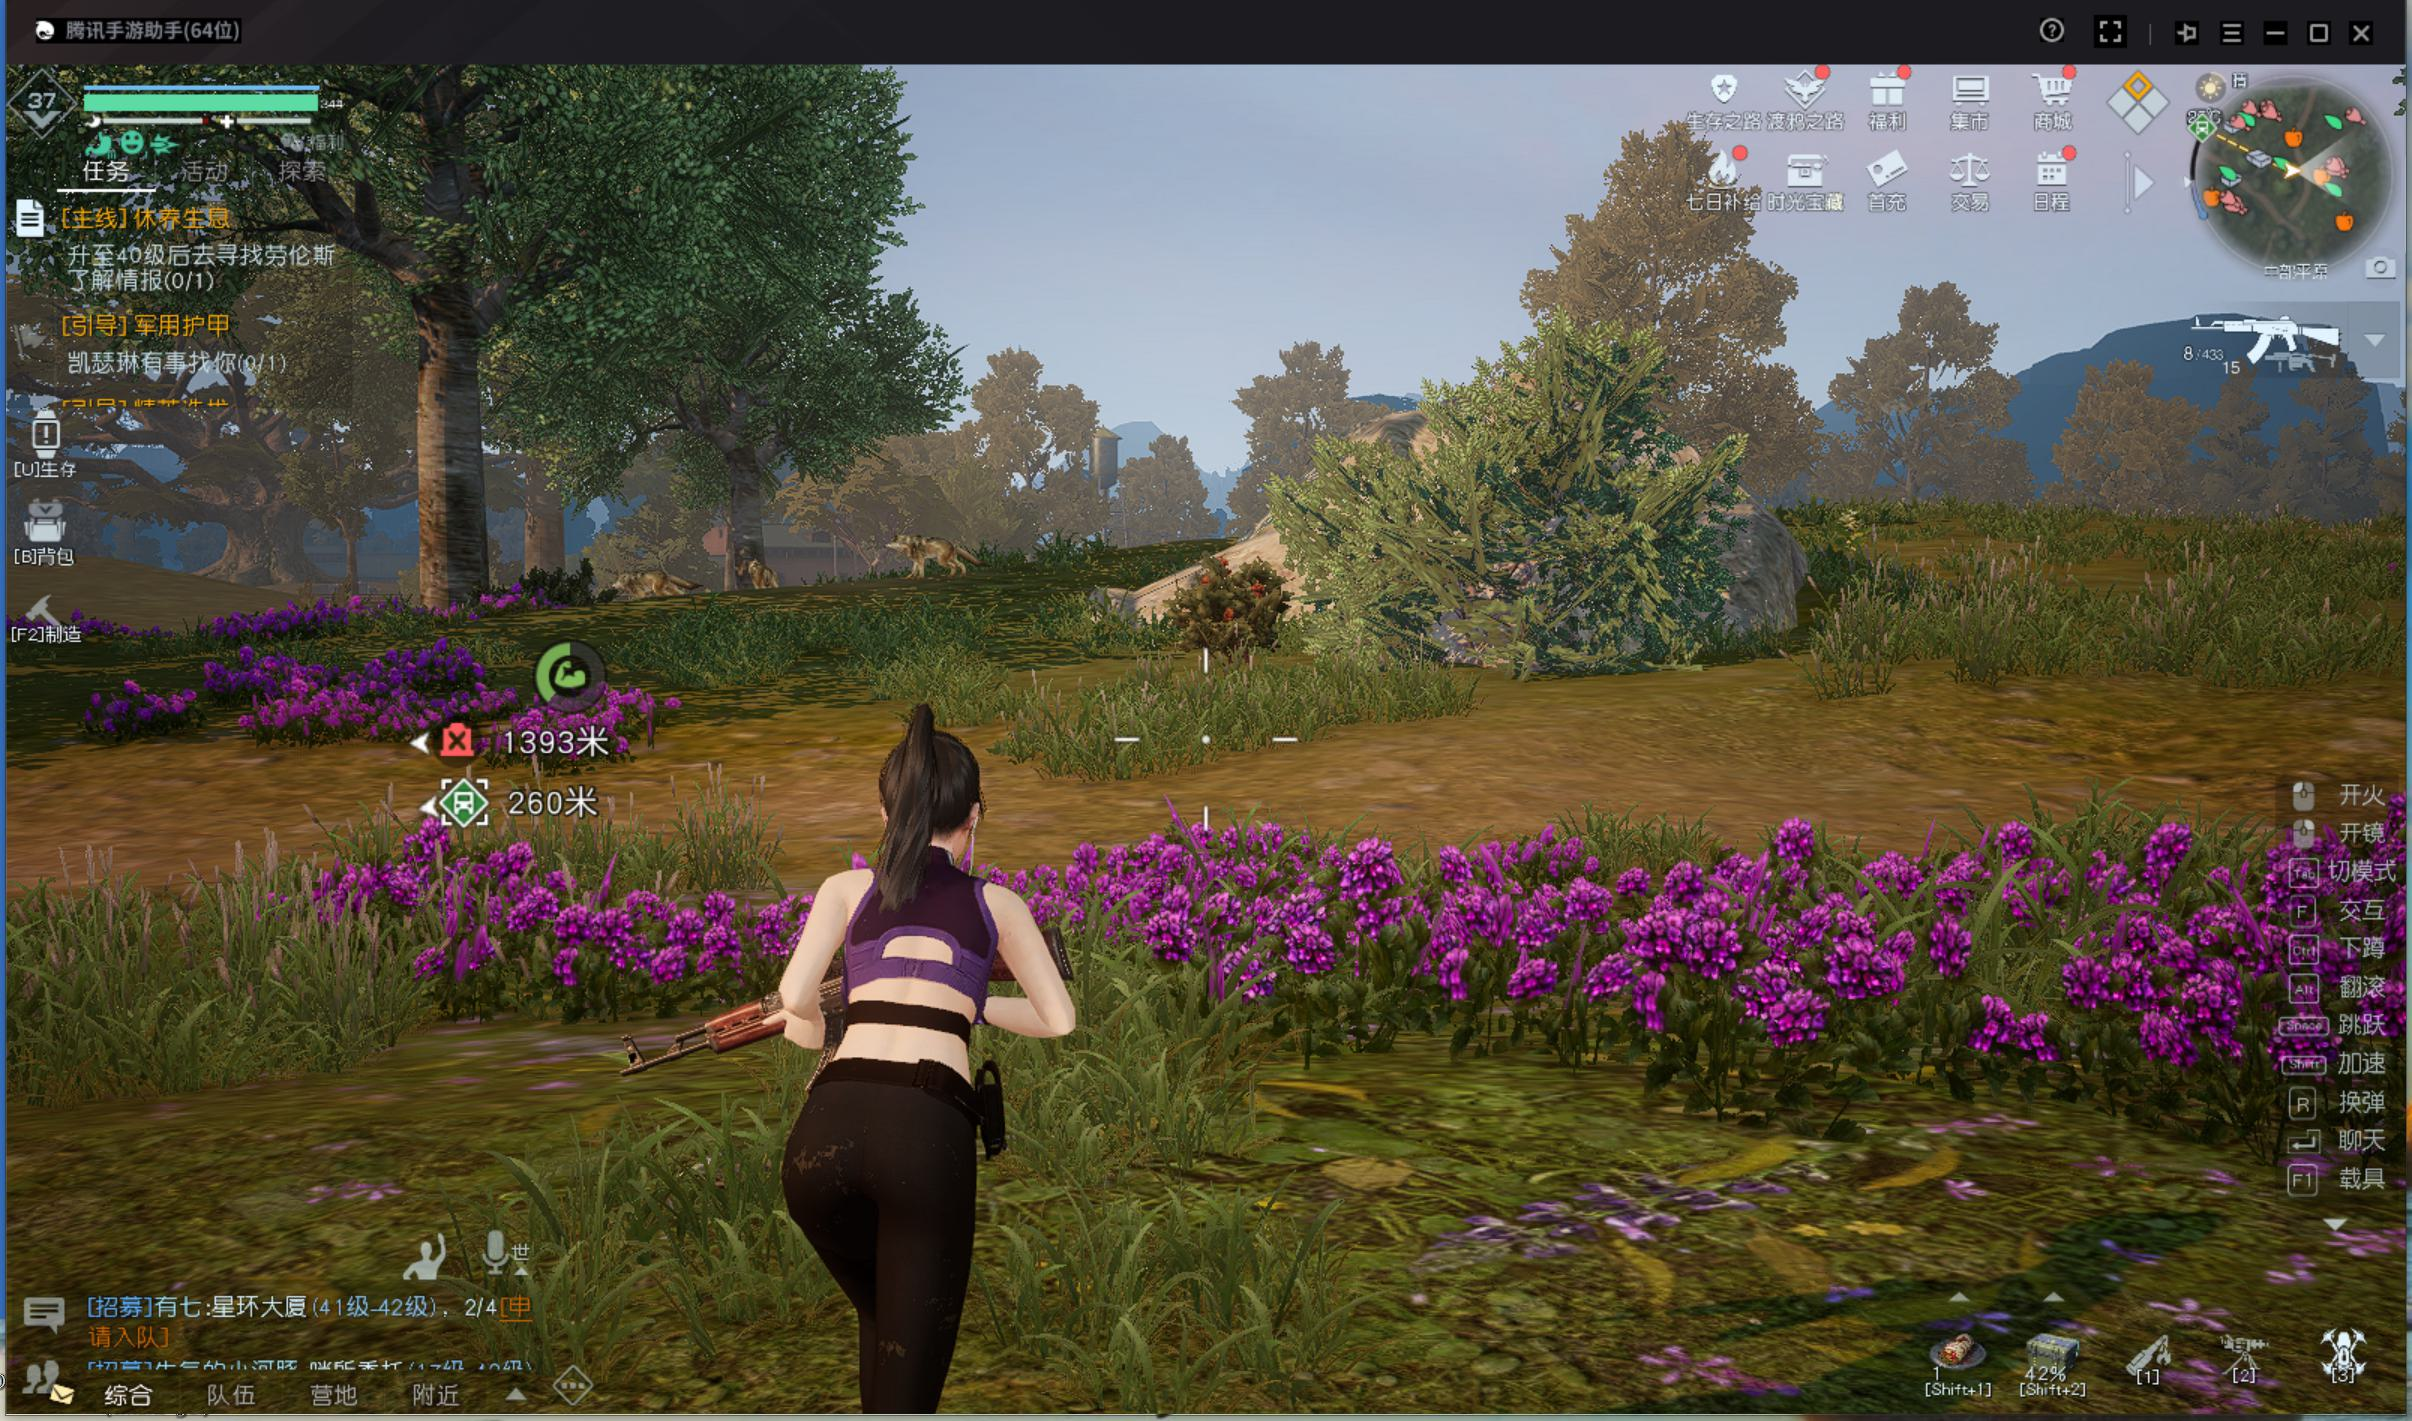tree: (408, 320, 502, 623), (514, 438, 572, 617), (715, 442, 778, 604)
